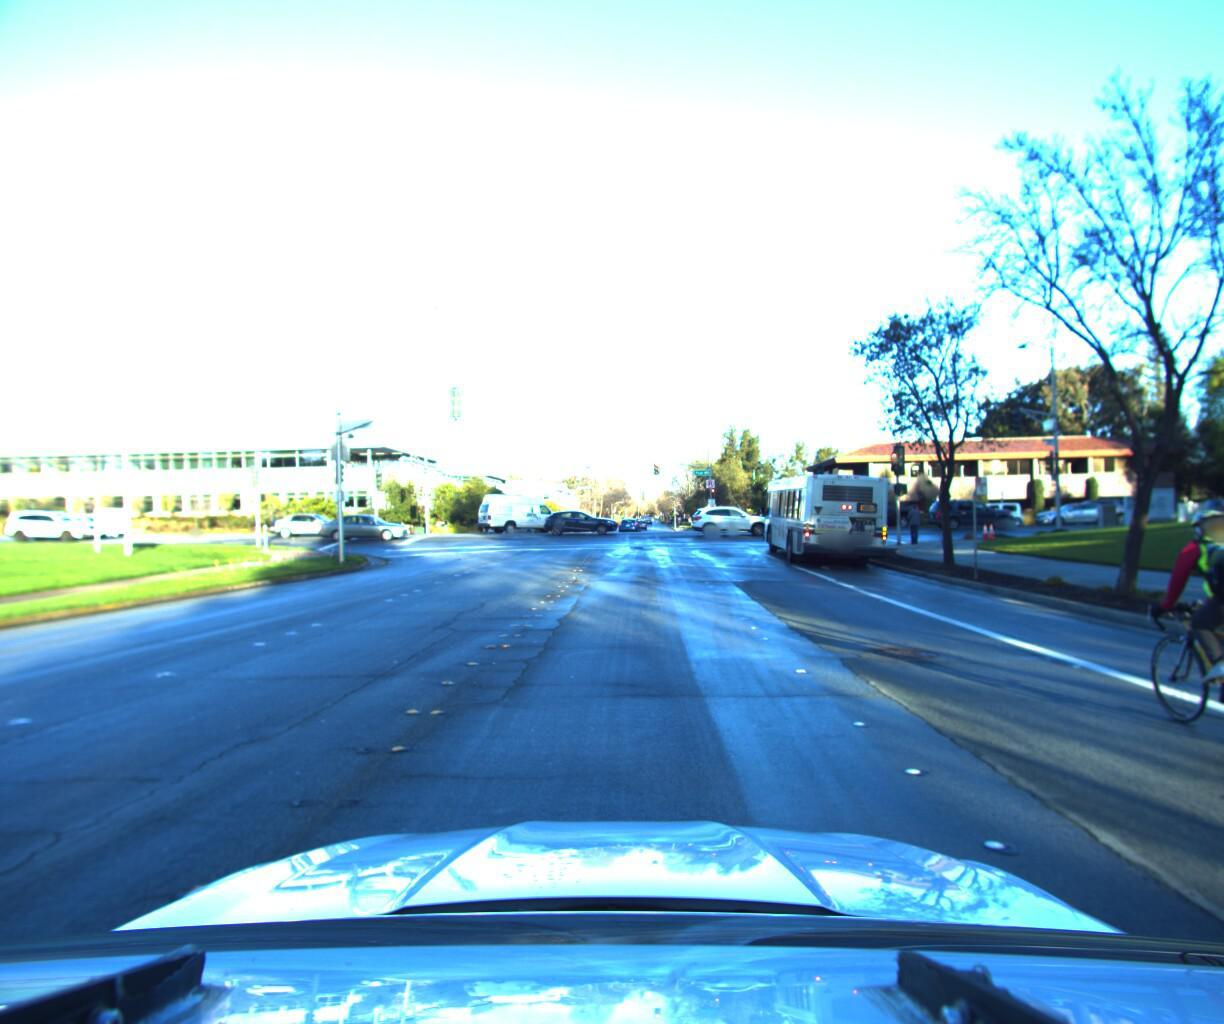bicycle: (1098, 479, 1224, 775)
bus: (757, 451, 892, 566)
car: (469, 493, 567, 534), (12, 510, 112, 546), (813, 489, 916, 523), (922, 492, 1016, 525), (321, 509, 416, 540), (269, 508, 360, 540), (690, 501, 774, 534), (1025, 492, 1114, 521), (543, 505, 619, 535), (953, 493, 1029, 519), (1192, 490, 1224, 525), (617, 514, 644, 534)
